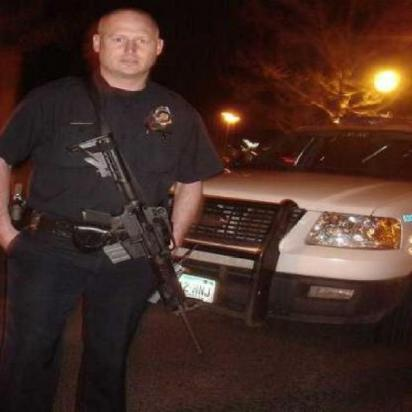Gun: (64, 132, 225, 369)
